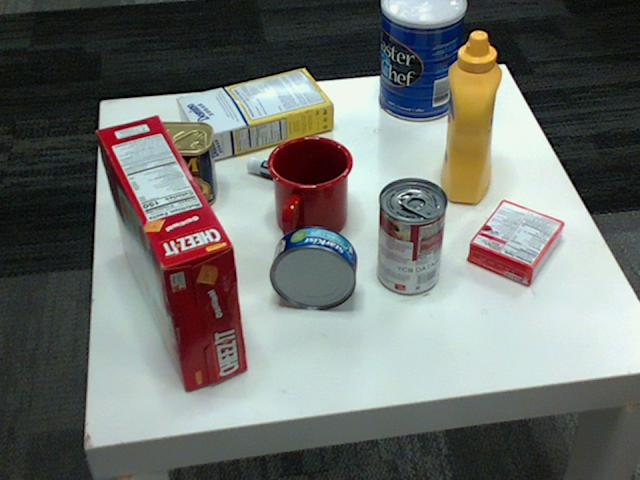cracker_box: (94, 114, 247, 389)
gelatin_box: (468, 200, 564, 285)
large_marker: (245, 160, 341, 196)
master_chef_can: (377, 0, 464, 121)
mug: (268, 133, 354, 238)
mustard_bottle: (440, 32, 501, 203)
potted_meat_can: (118, 122, 217, 209)
sugar_box: (177, 67, 334, 160)
tomato_soup_can: (377, 178, 447, 294)
tuna_fish_can: (271, 226, 358, 308)
